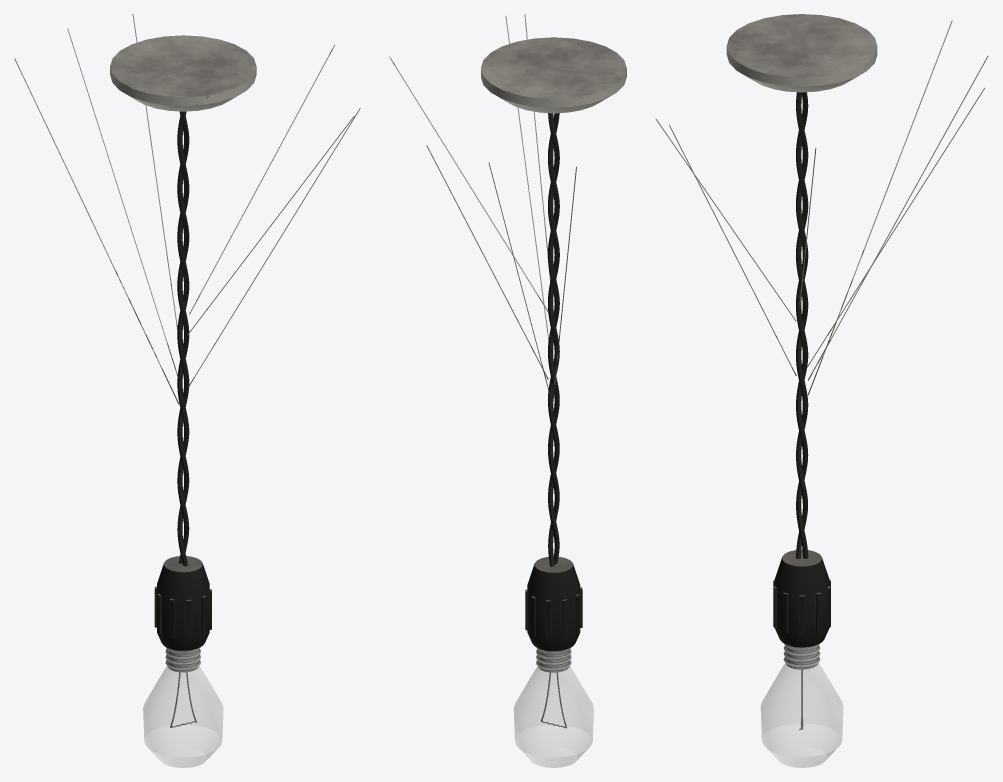
The model's file is SM_CeilingLamp_Bare.fbx.
3 views of the same model, side by side, from view 1: azimuth 30°, elevation 25°; view 2: azimuth 150°, elevation 25°; view 3: azimuth 270°, elevation 25° (orthographic). The views are drawn at different scales.
Parts seen in each view (by area): view 1: SM_CeilingLamp_Bare; view 2: SM_CeilingLamp_Bare; view 3: SM_CeilingLamp_Bare.
Part boxes in pixels (x1=…): SM_CeilingLamp_Bare: x1=14, y1=14, x2=360, y2=767; SM_CeilingLamp_Bare: x1=389, y1=14, x2=626, y2=767; SM_CeilingLamp_Bare: x1=655, y1=14, x2=988, y2=767.
Size of the model in its own units: 0.2408 by 0.63 by 0.2651.
Materials: 2 (1 with a texture image).
